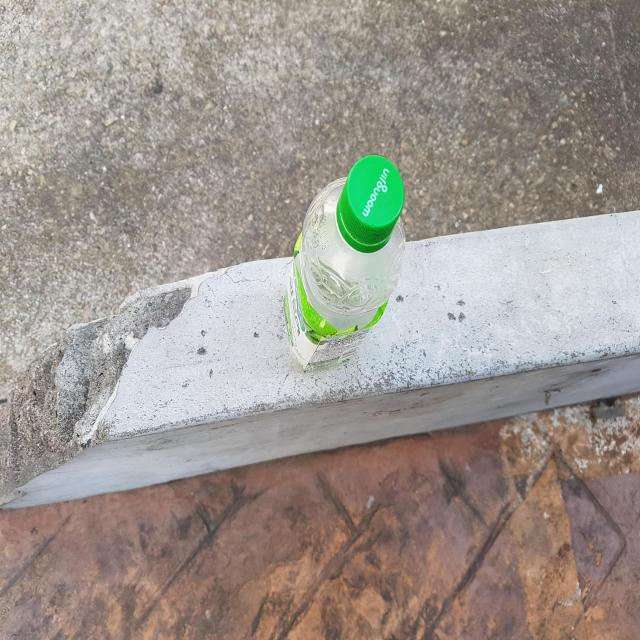plastic: (284, 154, 406, 370)
